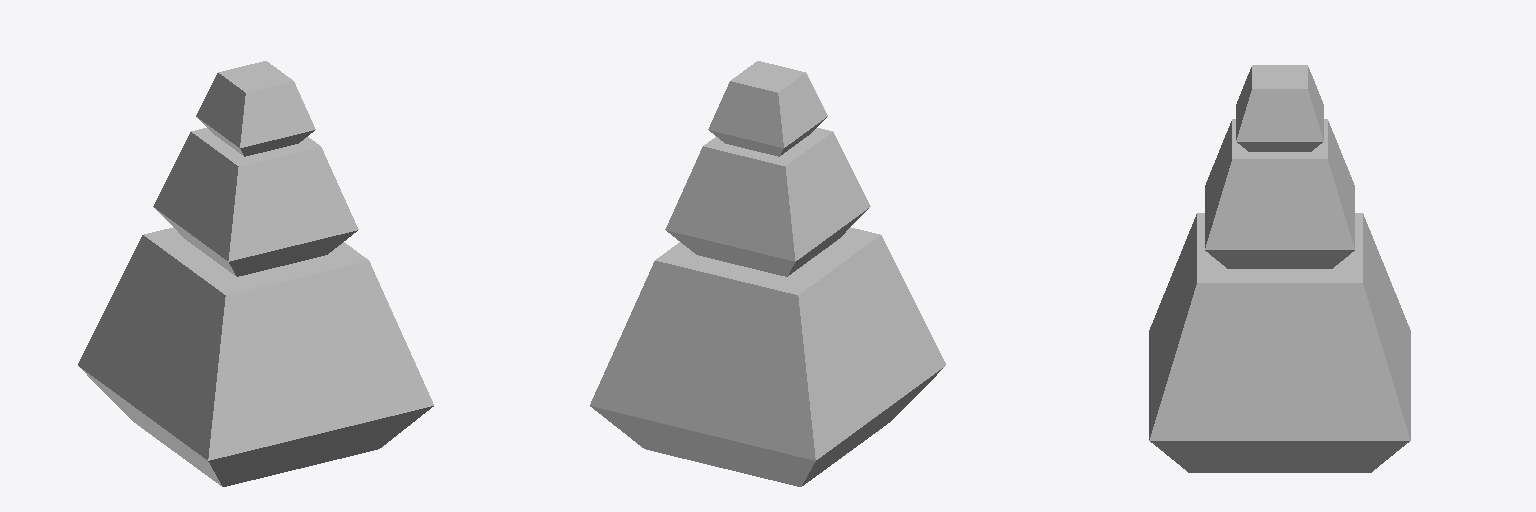
File: pedestal.obj
3 views of the same model, side by side, from view 1: azimuth 30°, elevation 25°; view 2: azimuth 150°, elevation 25°; view 3: azimuth 270°, elevation 25° (orthographic).
Parts seen in each view (by area): view 1: Cube.009_Cube, Cube.010_Cube.008, Cube.011_Cube.009; view 2: Cube.009_Cube, Cube.010_Cube.008, Cube.011_Cube.009; view 3: Cube.009_Cube, Cube.010_Cube.008, Cube.011_Cube.009.
Boxes of the visible parts, <box> form: Cube.009_Cube: <box>78,227,433,486</box>; Cube.010_Cube.008: <box>153,128,358,276</box>; Cube.011_Cube.009: <box>196,61,315,156</box>; Cube.009_Cube: <box>590,227,945,486</box>; Cube.010_Cube.008: <box>665,128,870,276</box>; Cube.011_Cube.009: <box>708,61,827,156</box>; Cube.009_Cube: <box>1149,213,1410,472</box>; Cube.010_Cube.008: <box>1205,119,1354,268</box>; Cube.011_Cube.009: <box>1236,65,1323,151</box>.
Bounding box in the file's own units: 0.8834 × 1.34 × 0.8834.